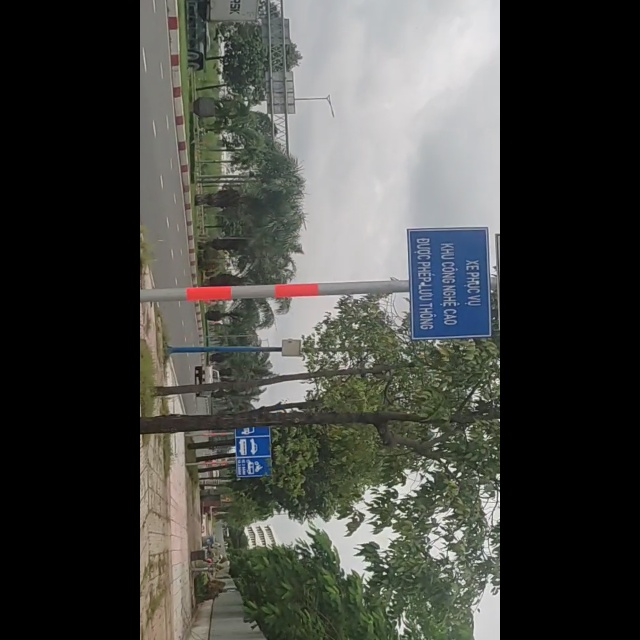bien_cam: (166, 417, 244, 481)
